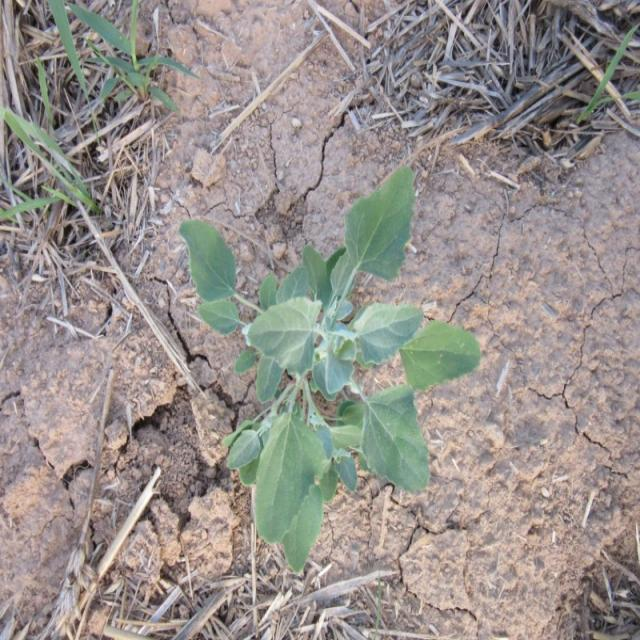ca: (175, 168, 484, 568)
